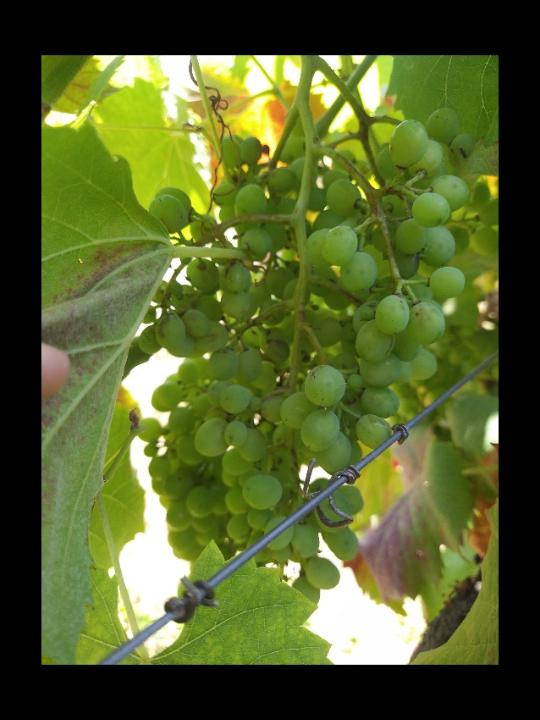grape: (137, 106, 479, 607)
